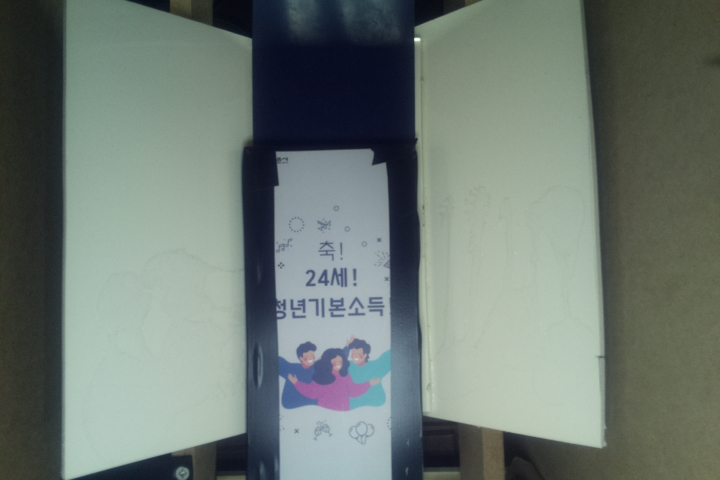book: (244, 140, 421, 480)
